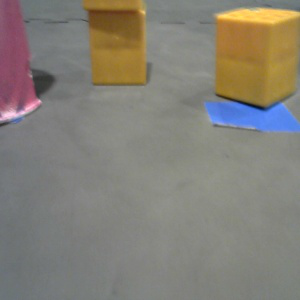middle: (1, 1, 42, 123)
